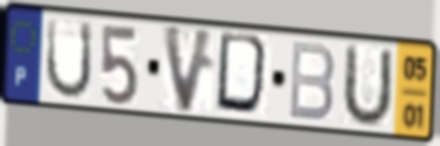5: (98, 20, 143, 108)
B: (286, 38, 338, 125)
D: (213, 29, 275, 121)
U: (338, 41, 395, 130), (42, 15, 95, 102)
V: (160, 22, 218, 117)
